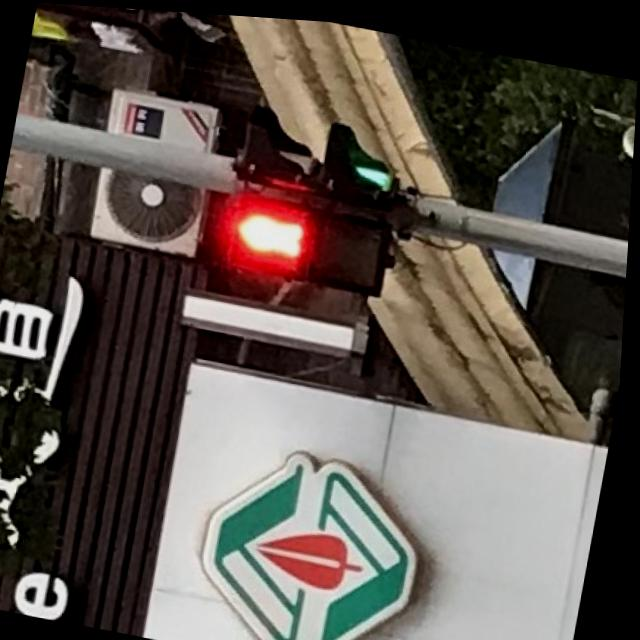red_light: (227, 191, 320, 276)
